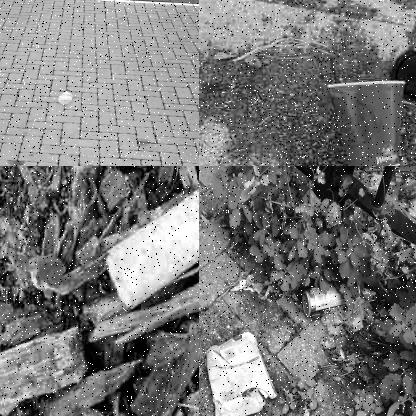cardboard: (205, 332, 279, 415)
metal: (300, 282, 363, 320)
plastic: (102, 168, 198, 308), (324, 77, 411, 165), (399, 49, 415, 103), (58, 88, 74, 106)
